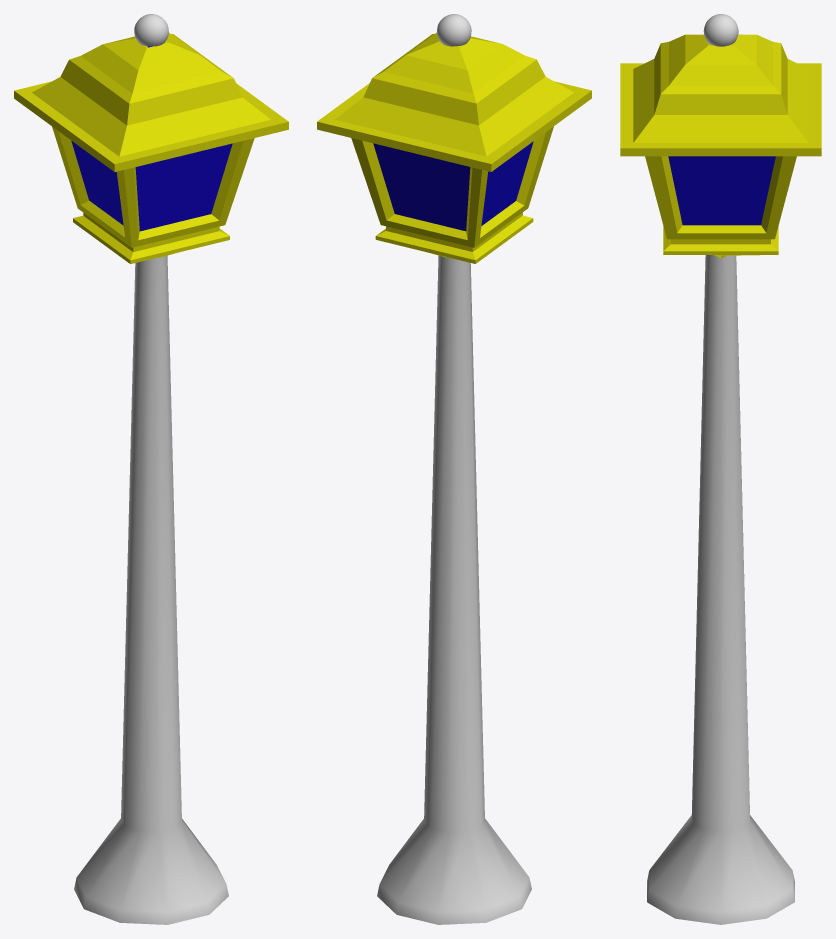
The model's file is lampost on own.fbx.
The picture shows the model from 3 angles, left to right: view 1: azimuth 30°, elevation 25°; view 2: azimuth 150°, elevation 25°; view 3: azimuth 270°, elevation 25°; orthographic projection.
Parts seen in each view (by area): view 1: lamp_post_base, lamp_post_light, the_tip_cough_cough; view 2: lamp_post_base, lamp_post_light, the_tip_cough_cough; view 3: lamp_post_base, lamp_post_light, the_tip_cough_cough.
Boxes of the visible parts, x1,y1,x2,y2 form: lamp_post_base: (74,255,228,924); lamp_post_light: (14,33,288,263); the_tip_cough_cough: (134,14,168,46); lamp_post_base: (377,255,531,924); lamp_post_light: (317,32,591,263); the_tip_cough_cough: (437,14,471,46); lamp_post_base: (647,255,794,924); lamp_post_light: (620,34,821,258); the_tip_cough_cough: (703,14,738,46).
Bounding box in the file's own units: 1.35 × 6.5 × 1.35.
